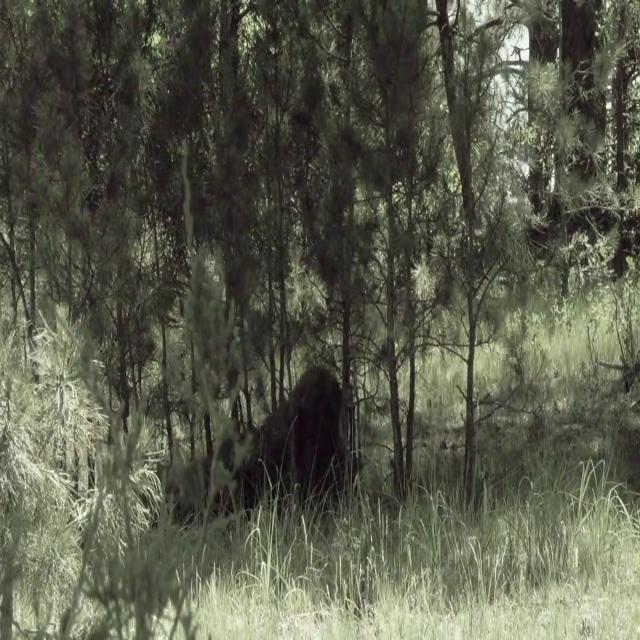Camouflage: (173, 371, 360, 531)
